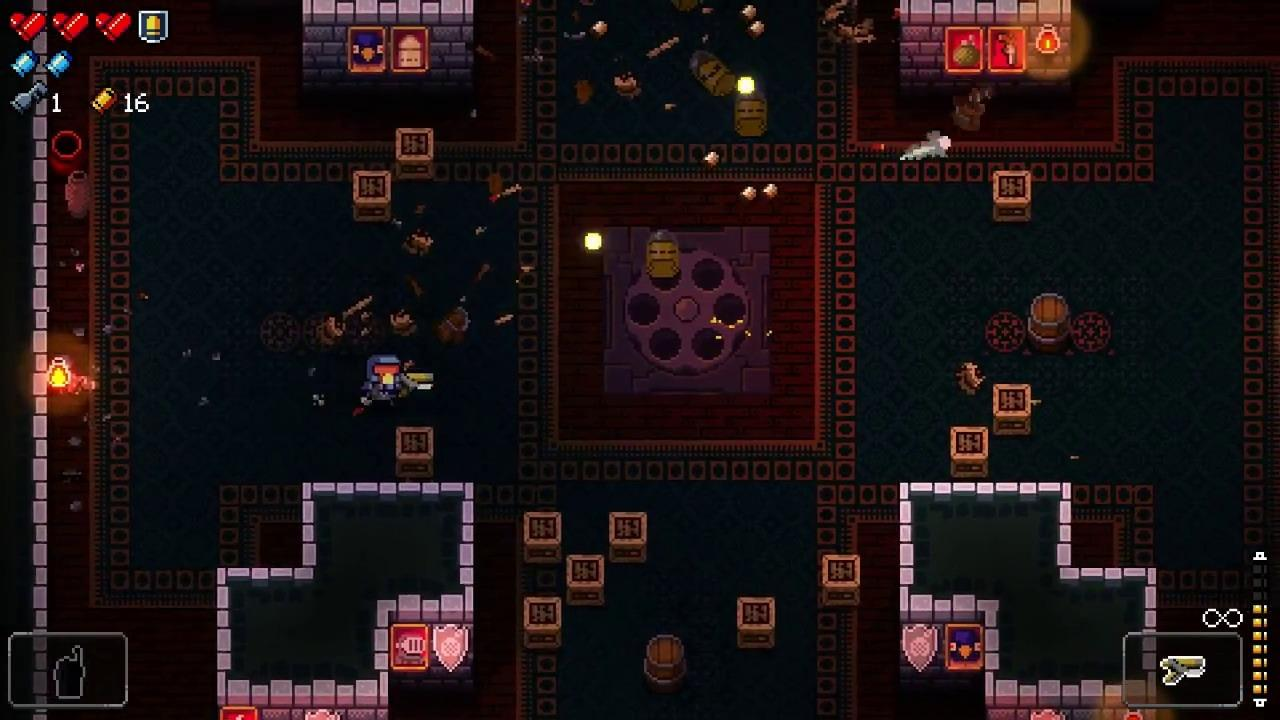dead_bullet_kin: (690, 50, 735, 97), (732, 83, 767, 138), (647, 229, 679, 278)
player: (367, 354, 403, 407)
teleporter: (599, 225, 774, 397)
